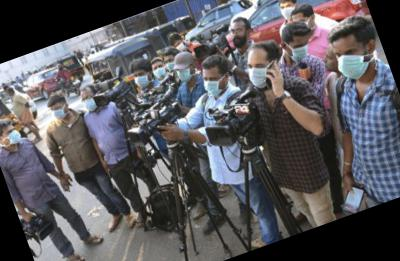with_mask: (333, 40, 375, 85), (246, 56, 278, 91), (202, 69, 231, 99), (288, 40, 314, 64), (50, 102, 71, 123), (133, 69, 154, 90), (176, 65, 196, 86), (82, 92, 101, 113), (280, 1, 299, 22), (164, 56, 181, 75), (151, 63, 167, 80), (172, 40, 188, 54)
without_mask: (229, 24, 252, 48), (322, 50, 342, 74)
